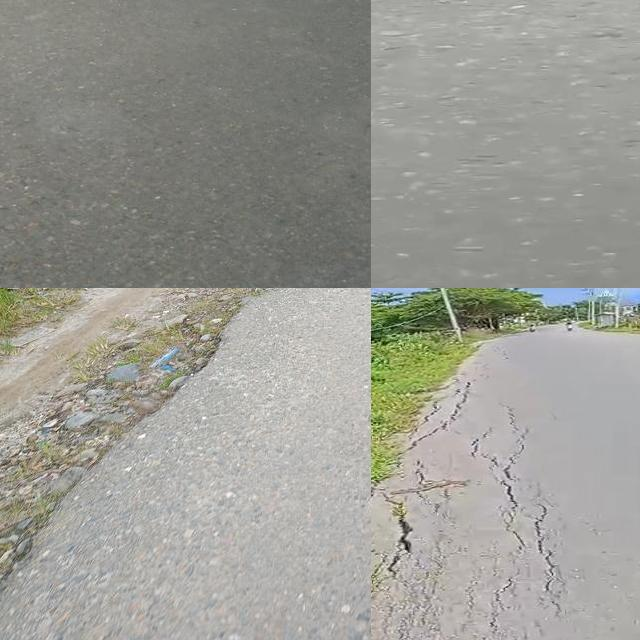Memanjang: (494, 416, 535, 583)
Pinggir: (0, 288, 290, 602), (371, 340, 487, 477)
